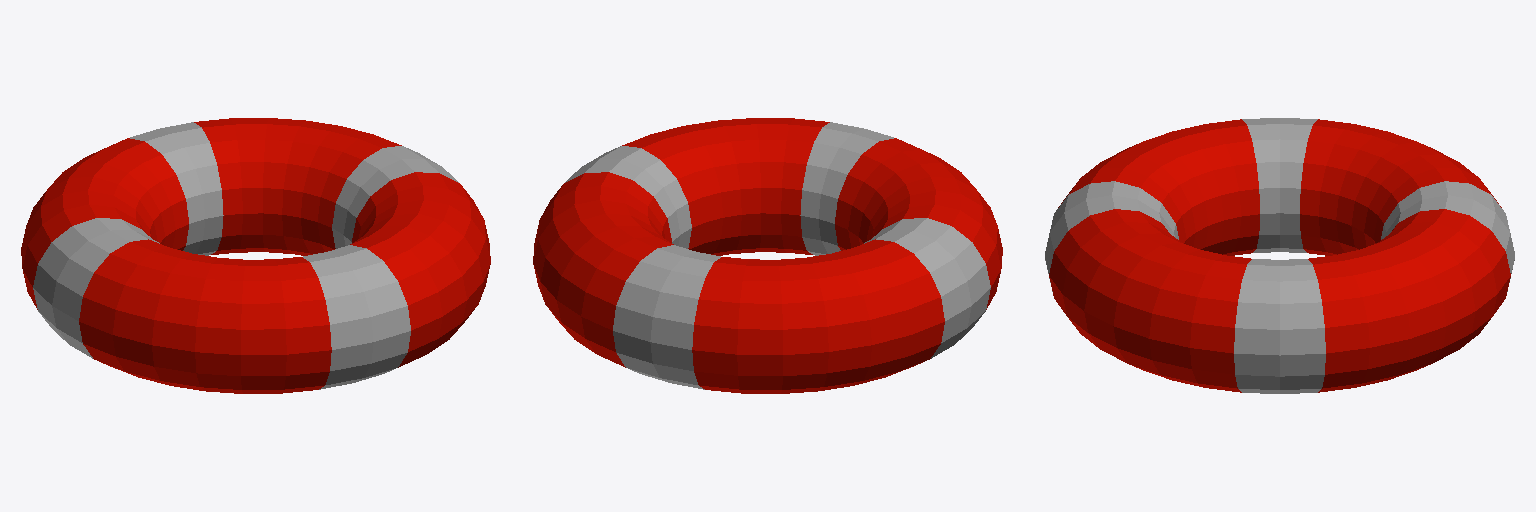
File: floatie.obj
3 renders of one model, left to right at view 1: azimuth 30°, elevation 25°; view 2: azimuth 150°, elevation 25°; view 3: azimuth 270°, elevation 25°, orthographic.
Visible parts, largest first — view 1: Torus; view 2: Torus; view 3: Torus.
Boxes of the visible parts, x1,y1,x2,y2 form: Torus: [21, 118, 490, 393]; Torus: [533, 118, 1002, 393]; Torus: [1045, 118, 1514, 393].
Bounding box in the file's own units: 2.8 × 0.8 × 2.8.